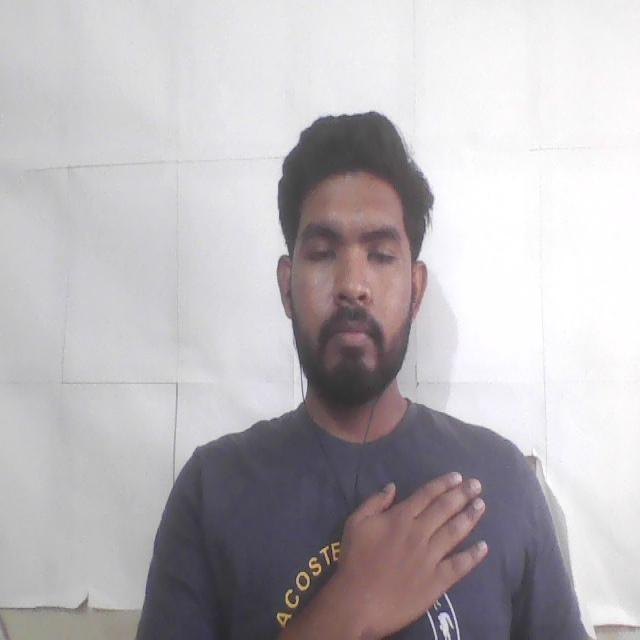Please: (300, 457, 534, 640)
